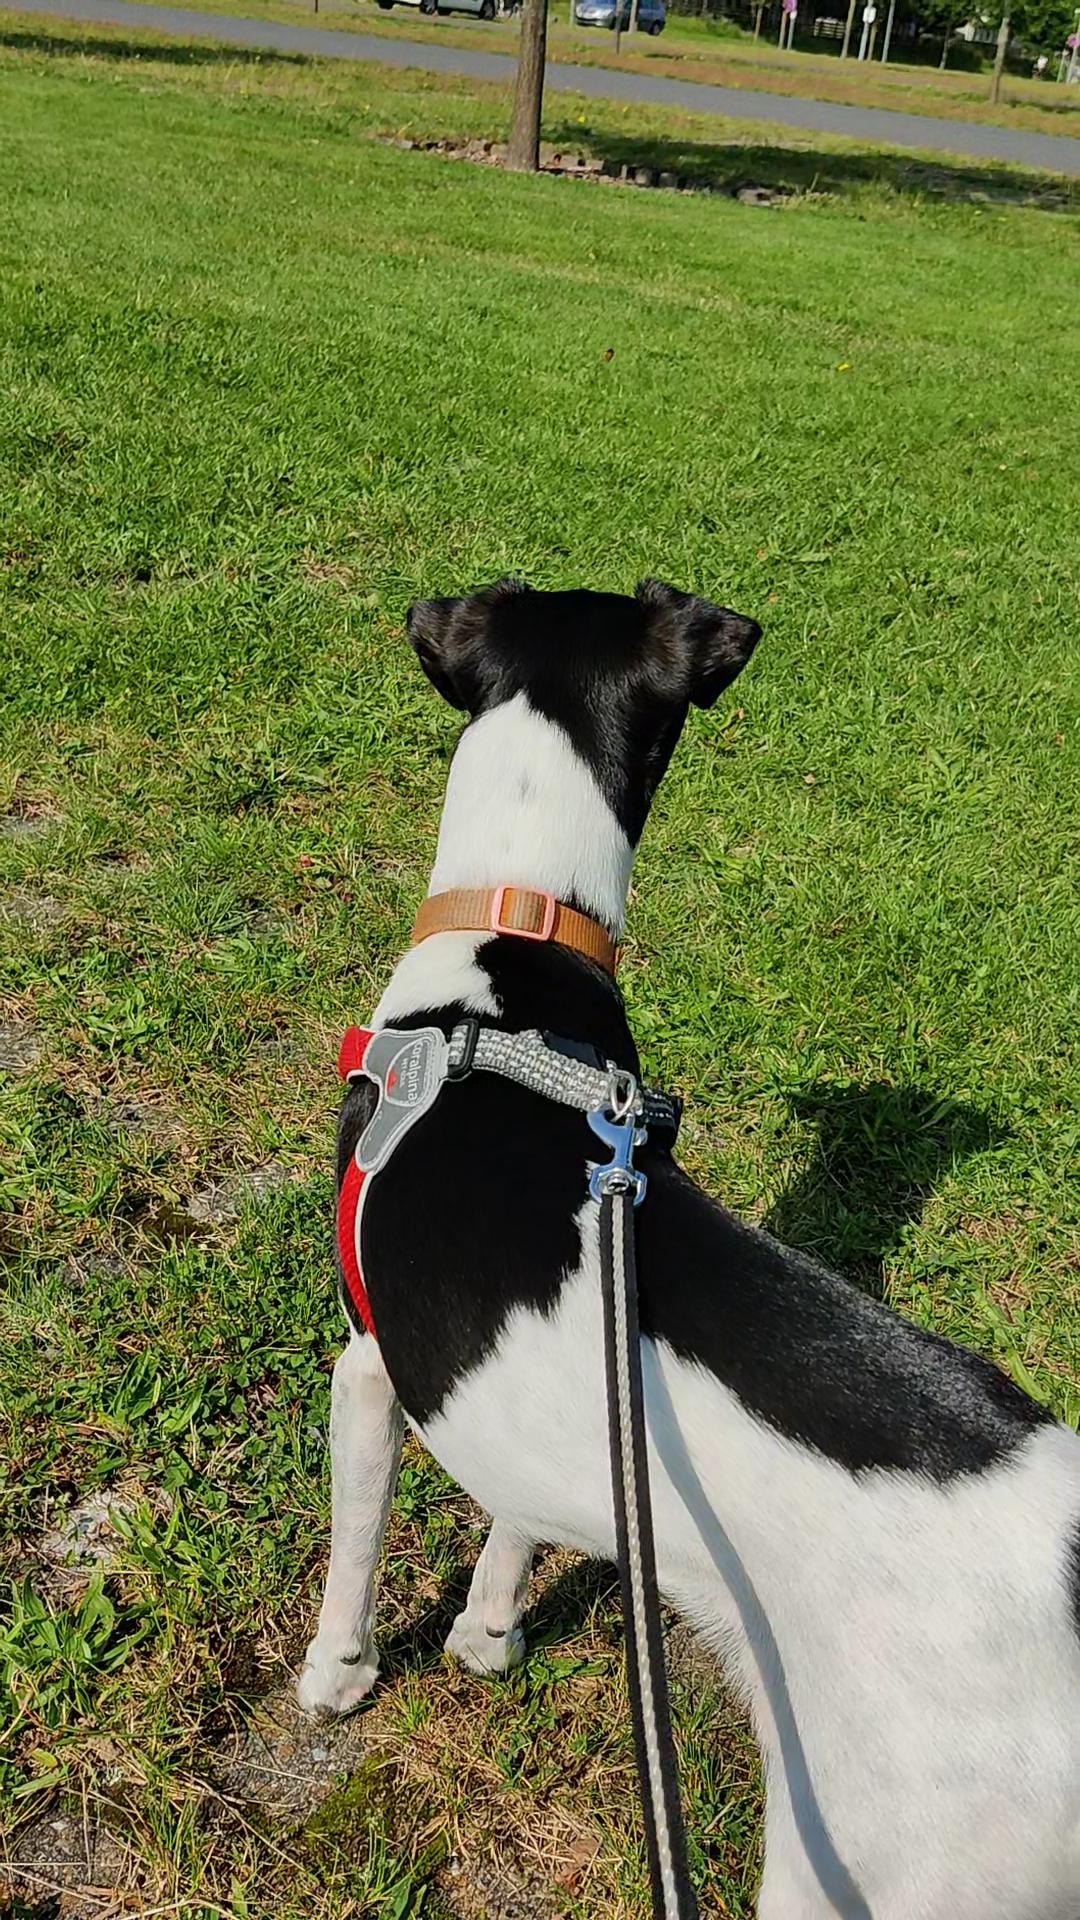Dog: (280, 571, 1079, 1919)
